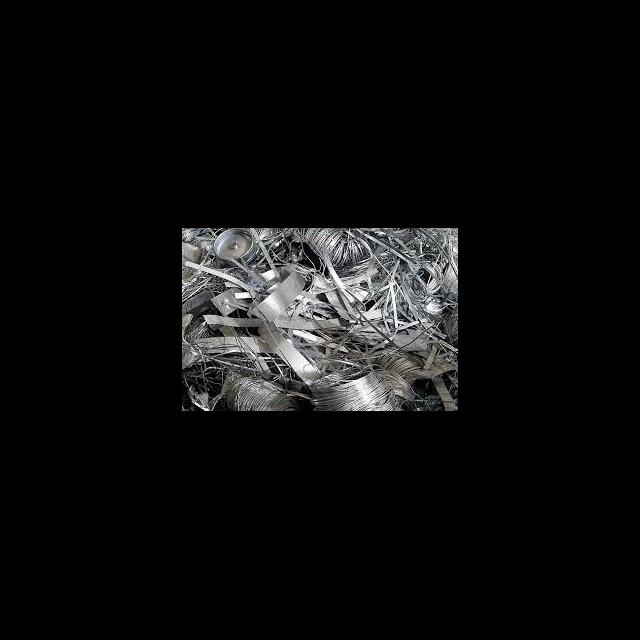metal: (203, 264, 318, 326), (248, 318, 330, 384), (304, 362, 405, 410), (216, 368, 298, 411), (206, 228, 263, 264)
